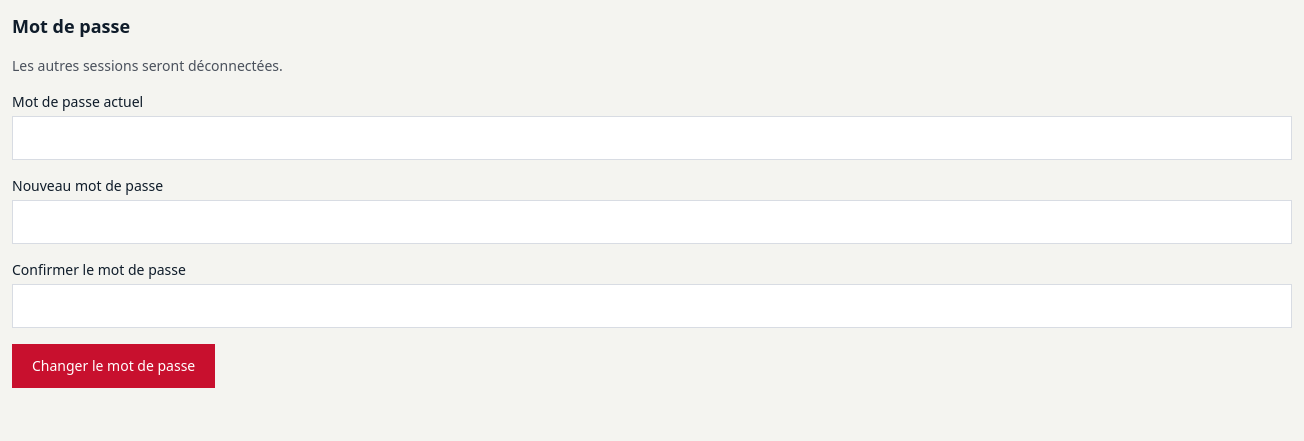
it: ChangePasswordForm › rejects a new password identical to the current one
This screenshot has width=1304, height=441.
Type "same-password" into the password field labelled "Mot de passe actuel" at (652, 138), box x1=12 y1=116 x2=1292 y2=160
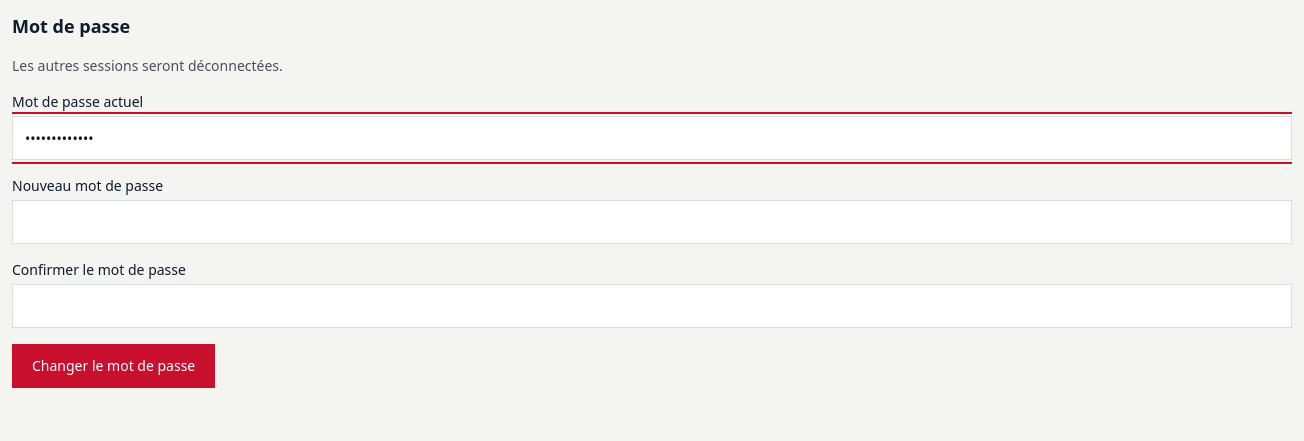
Type "same-password" into the password field labelled "Nouveau mot de passe" at (652, 222), box x1=12 y1=200 x2=1292 y2=244
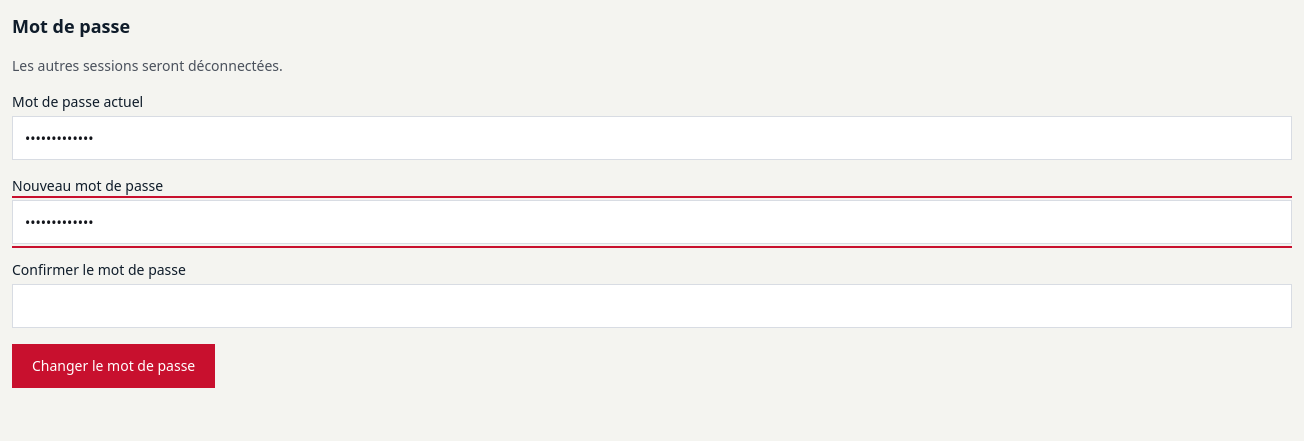
Type "same-password" into the password field labelled "Confirmer le mot de passe" at (652, 306), box x1=12 y1=284 x2=1292 y2=328
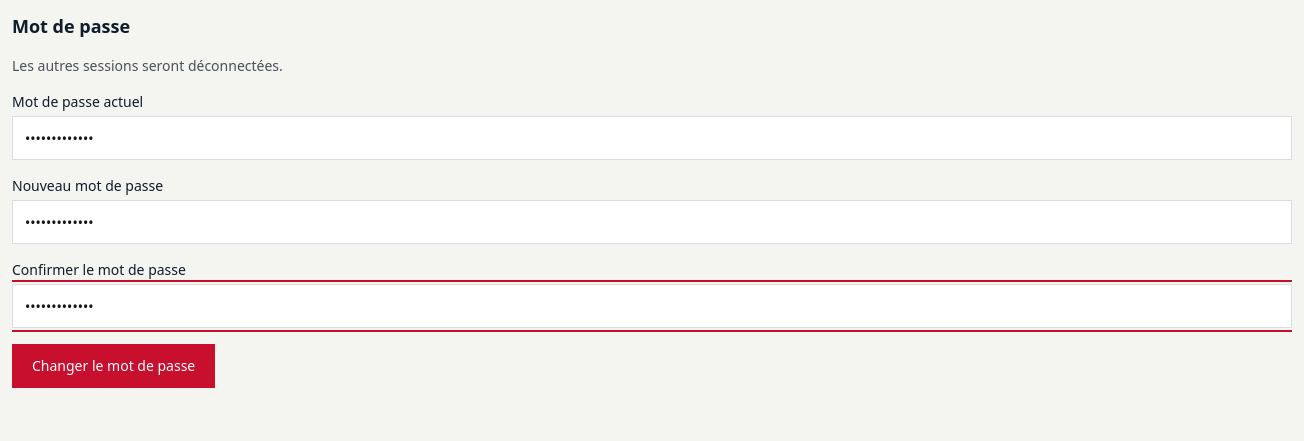
Submit the form "Mot de passe"
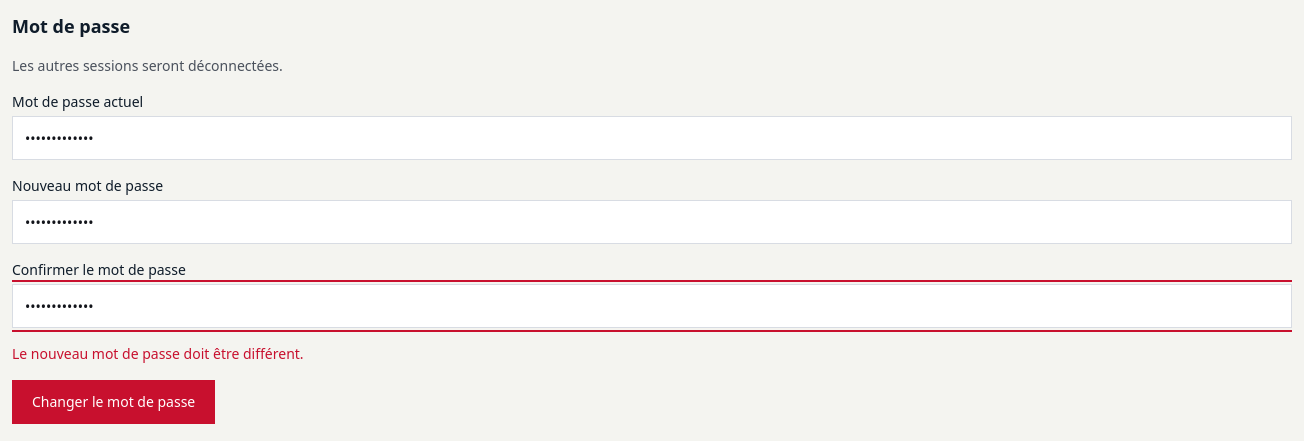
Check: the message reads "Le nouveau mot de passe doit être différent.", box x1=12 y1=344 x2=304 y2=363
